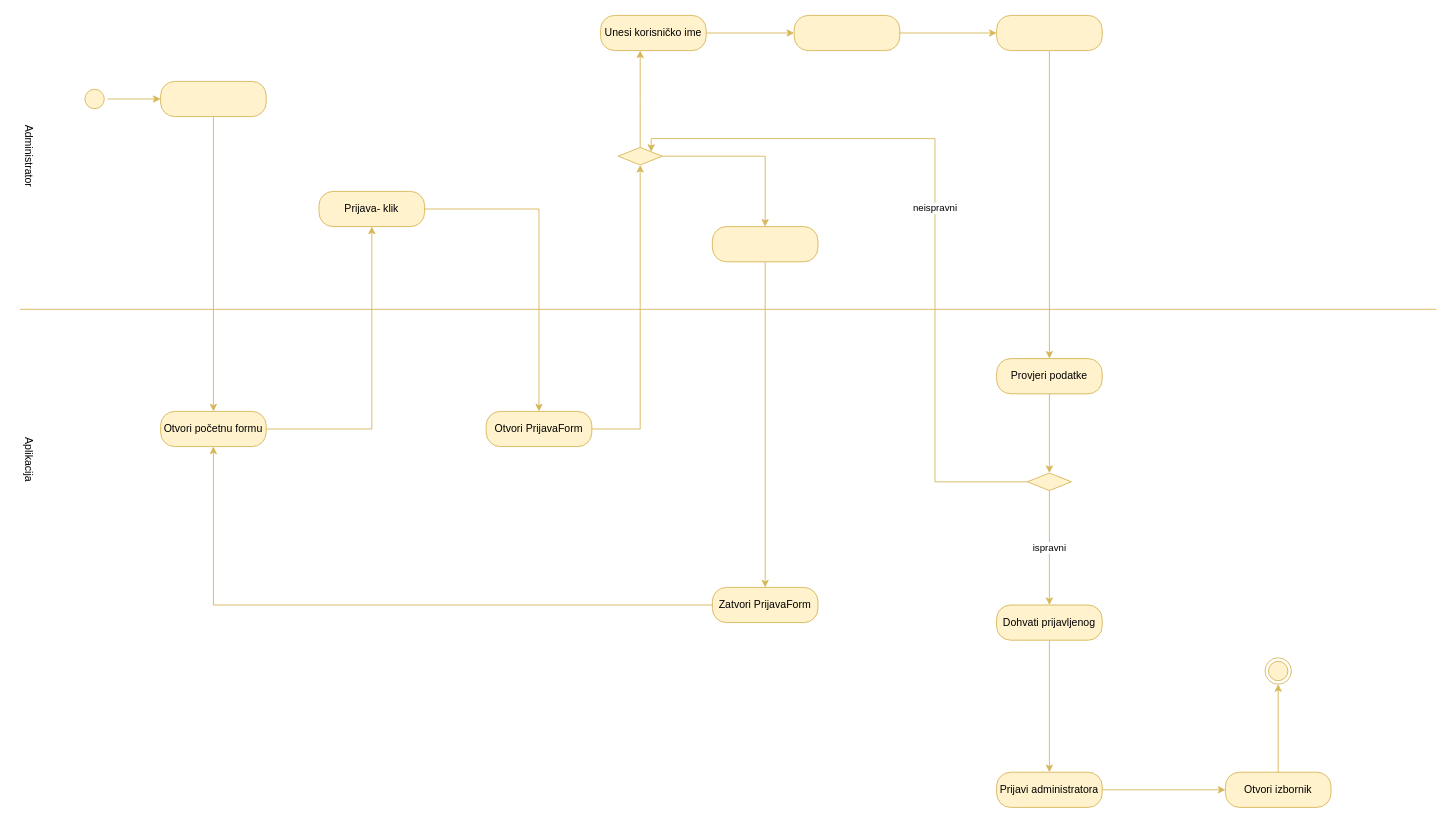
Some shapes in this 1452 by 823 pixel diagram are drawn without their labels. Here are the shapes that lost their labels. From the top down, the centre of each, then its label:
At (846,33): "Unesi lozinku".
At (1049,33): "Prijavi - klik".
At (213,99): "Pokreni aplikaciju".
At (764,244): "Odustani".
